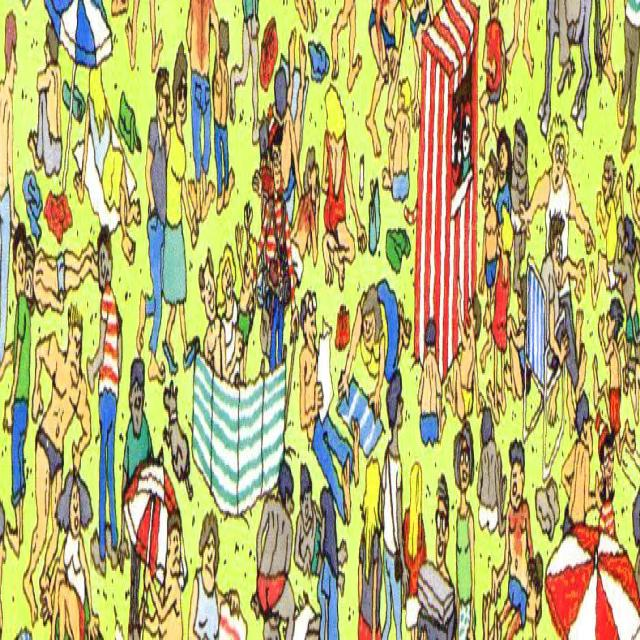waldo: (266, 102, 284, 192)
